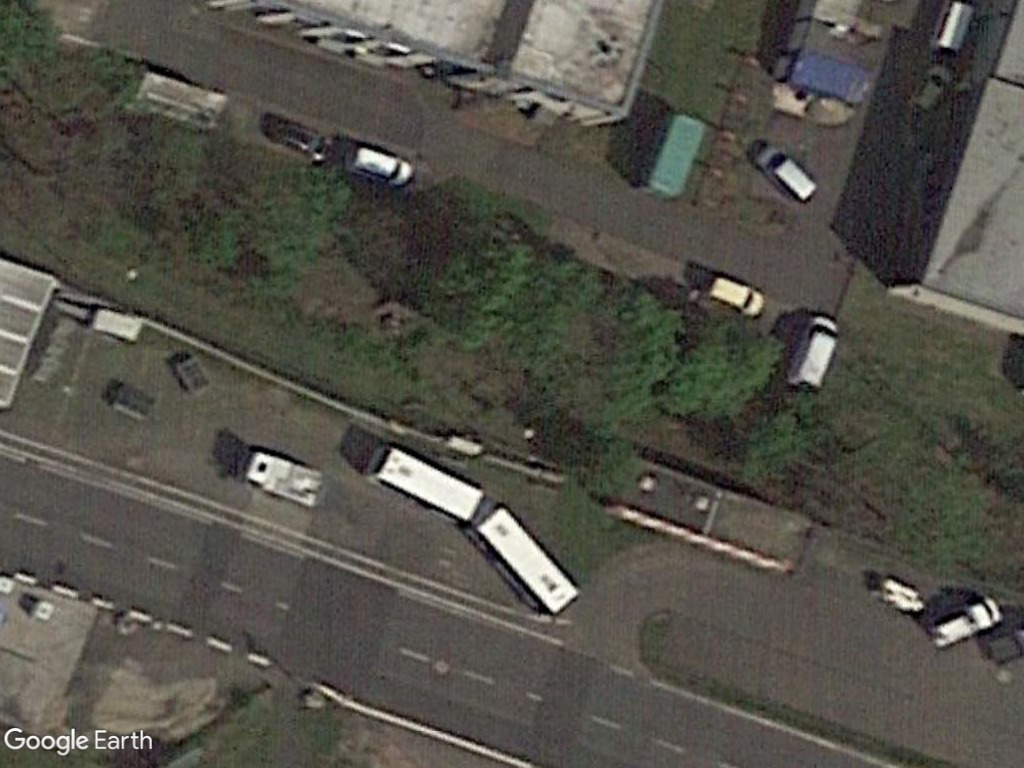bus: (469, 504, 587, 616), (366, 442, 488, 527)
van: (748, 137, 824, 211), (784, 309, 849, 394), (341, 141, 420, 190), (703, 271, 769, 323)
